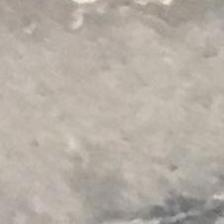Non_Crack: (38, 13, 211, 224)
